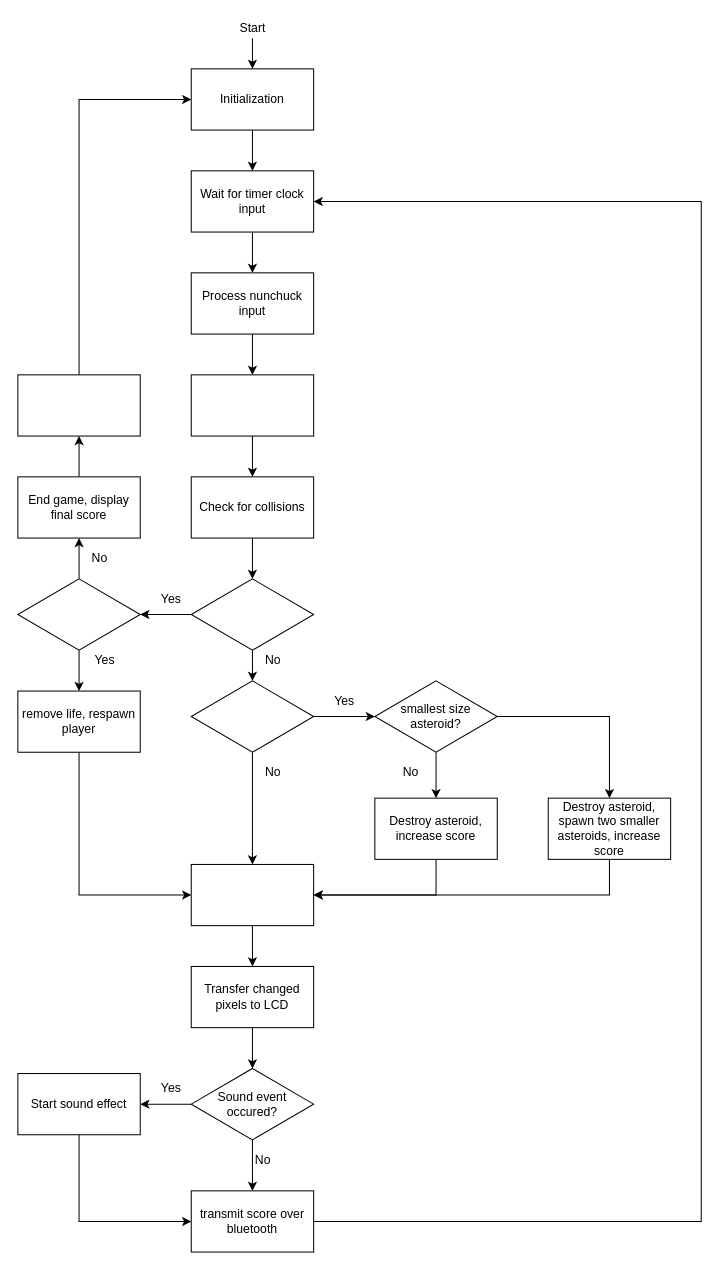
Image size: 727x1270. Some labels were removed from this diagram. The shapes that lost their labels are listed below. From the top down, each one's box as (x1, y1, x2, y2) in pixels, then its label:
(17, 374, 140, 436): Wait for restart game command
(190, 374, 314, 436): Calculate new positions/orientations (physics engine)
(17, 578, 140, 650): Lives left?
(190, 578, 314, 650): Asteroid-player collision?
(190, 680, 314, 752): Asteroid-bullet collision?
(190, 863, 314, 926): Render game to framebuffer
